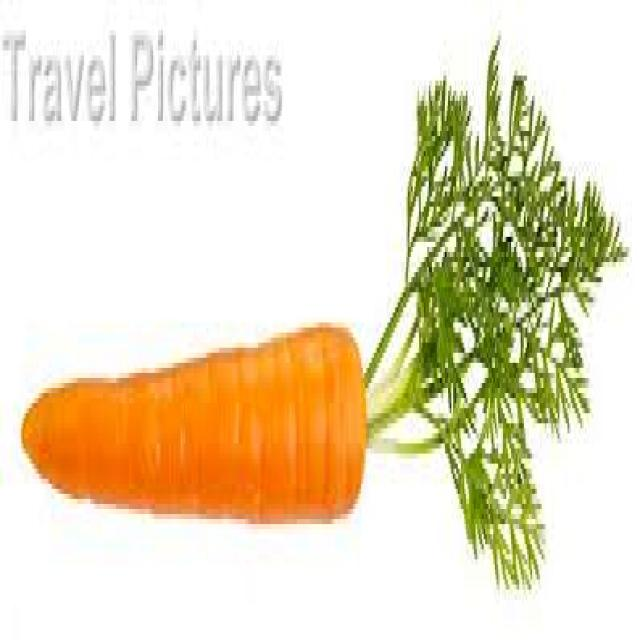organic waste: (21, 40, 625, 585), (19, 323, 364, 519)
